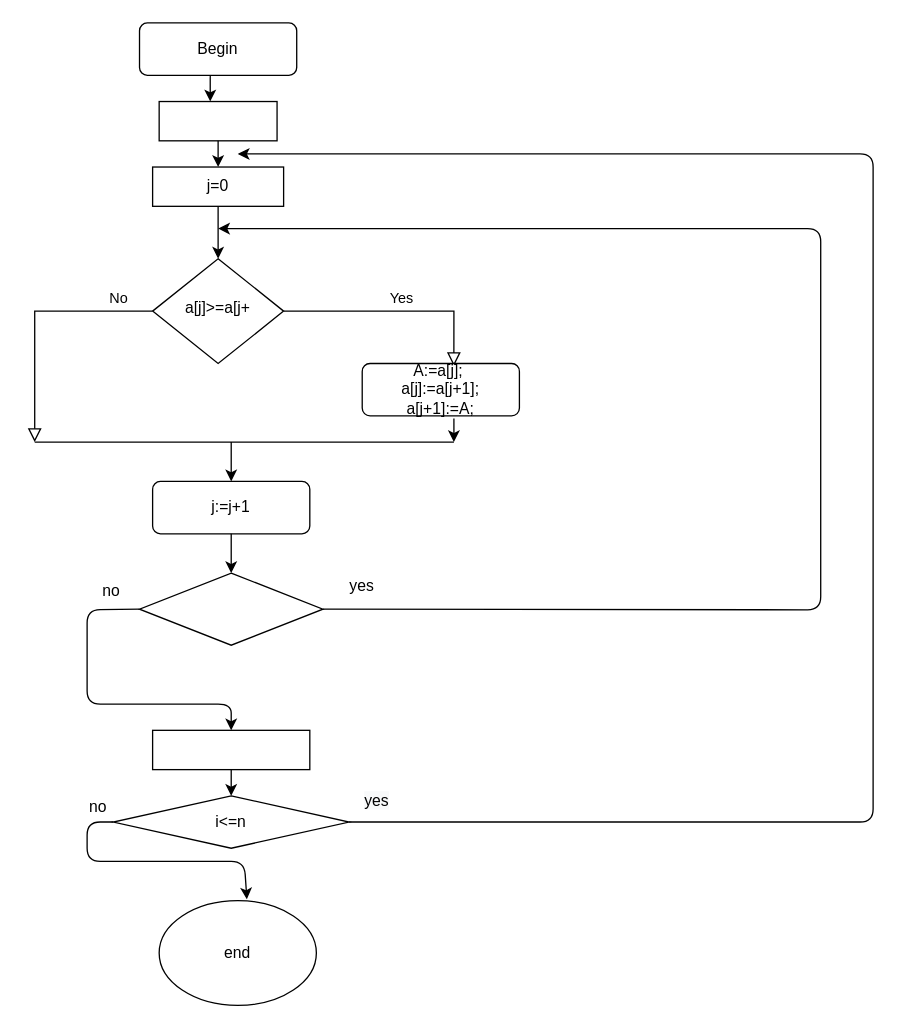
The diagram is 907 pixels wide and 1028 high, and some of its shapes have lost their labels. Each missing label, with the box of its shape:
i :=0: (158, 100, 277, 141)
i:=i+1;: (151, 729, 310, 770)
j<=n-1-: (138, 572, 323, 645)
